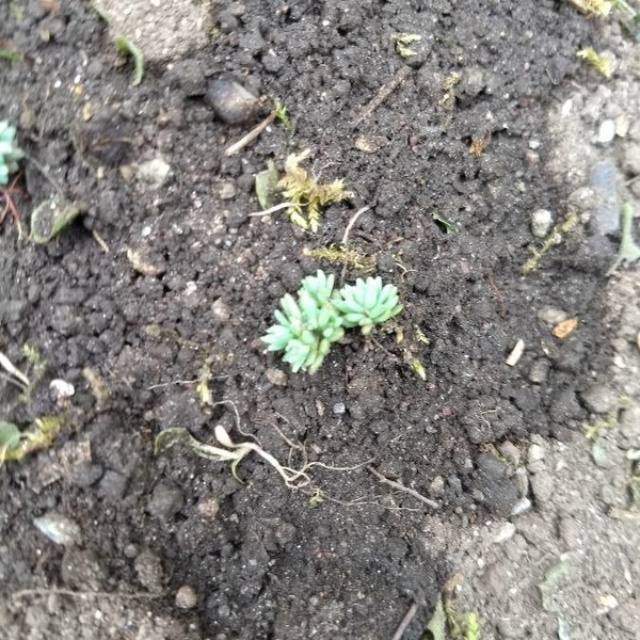obstacle: (250, 263, 407, 378)
